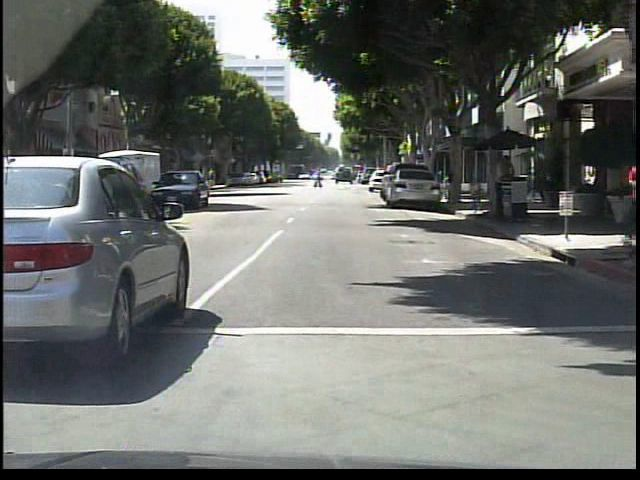person: (610, 162, 632, 236), (497, 156, 519, 225), (313, 170, 324, 190)
